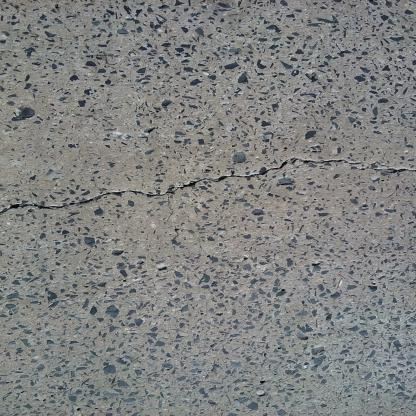Cracks: (4, 154, 416, 219)
